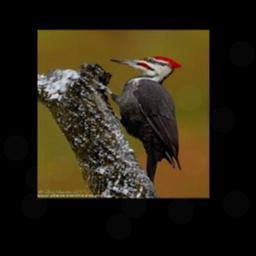Woodpecker: (93, 55, 182, 187)
